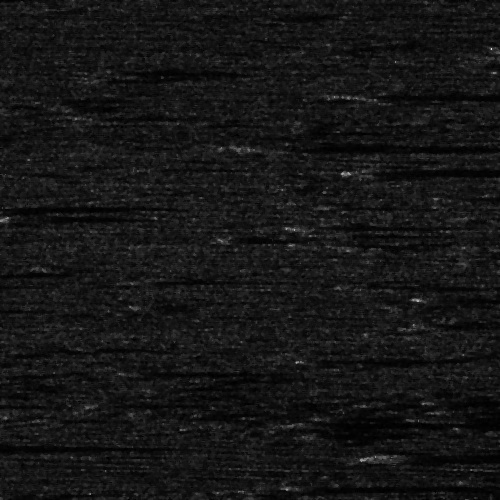object: (293, 450, 470, 463), (312, 164, 385, 177), (264, 480, 347, 489), (68, 66, 121, 75), (220, 143, 293, 148), (409, 414, 472, 419), (318, 91, 359, 98), (442, 477, 483, 482), (328, 231, 369, 234), (420, 397, 451, 400), (409, 294, 440, 297)
shadow: (349, 164, 500, 177), (306, 480, 500, 489), (382, 450, 500, 463), (257, 143, 500, 148), (95, 66, 224, 75), (338, 91, 500, 98), (0, 441, 115, 448), (143, 370, 274, 373), (440, 414, 500, 419), (349, 231, 444, 234), (425, 294, 500, 297), (436, 397, 500, 400), (462, 477, 500, 482)
